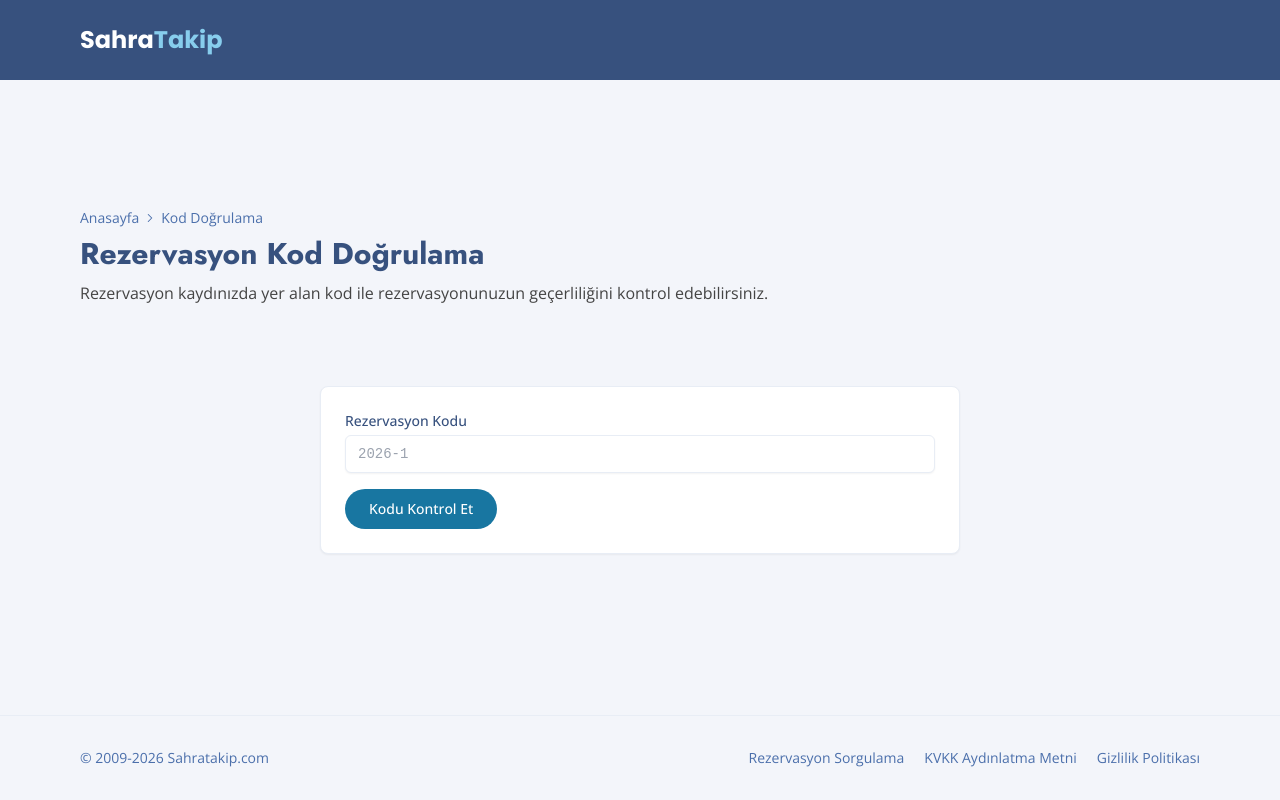
Test: Kod Doğrulama › bulunmayan kod için hata mesajı gösterir
This screenshot has width=1280, height=800.
Type "SA-2000-0000" into the field labelled "Rezervasyon Kodu" at (640, 454), box [345,435,935,473]
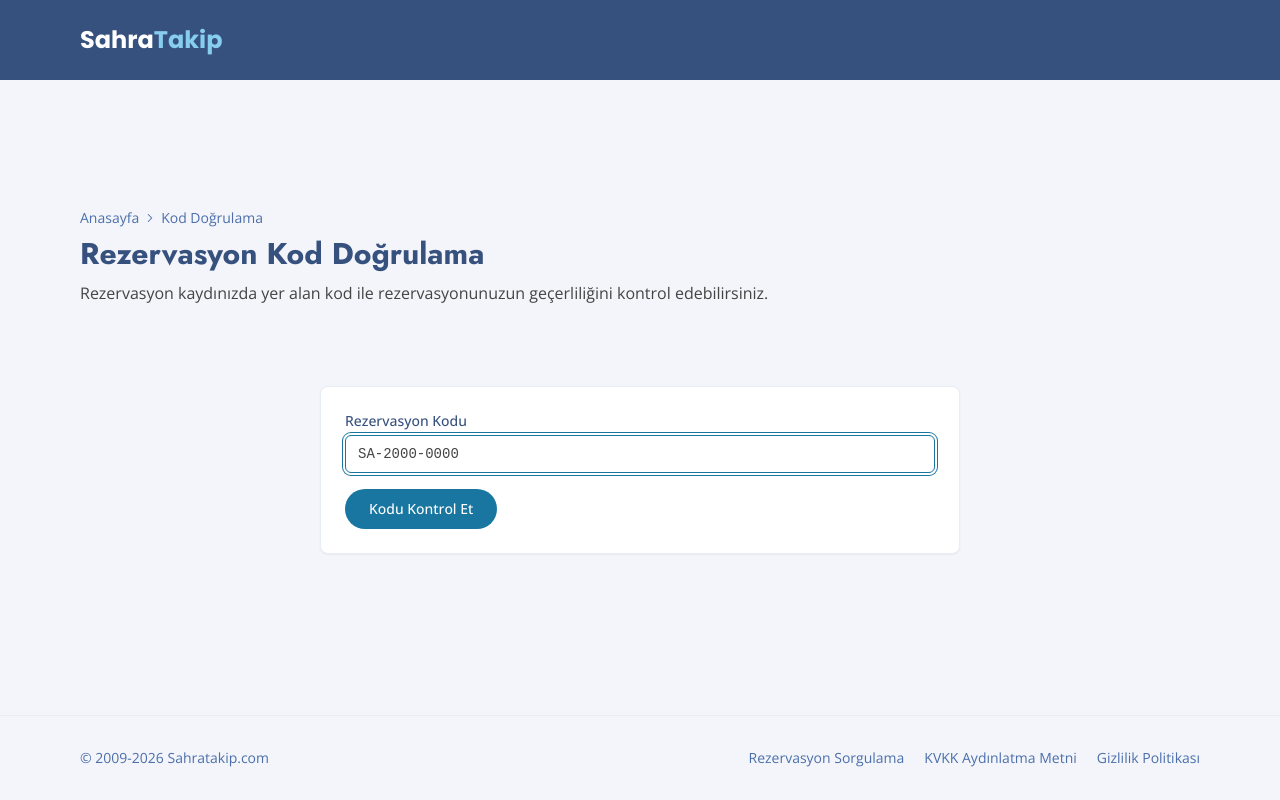
Click the button "Kodu Kontrol Et" at (421, 509), box [345,489,497,529]
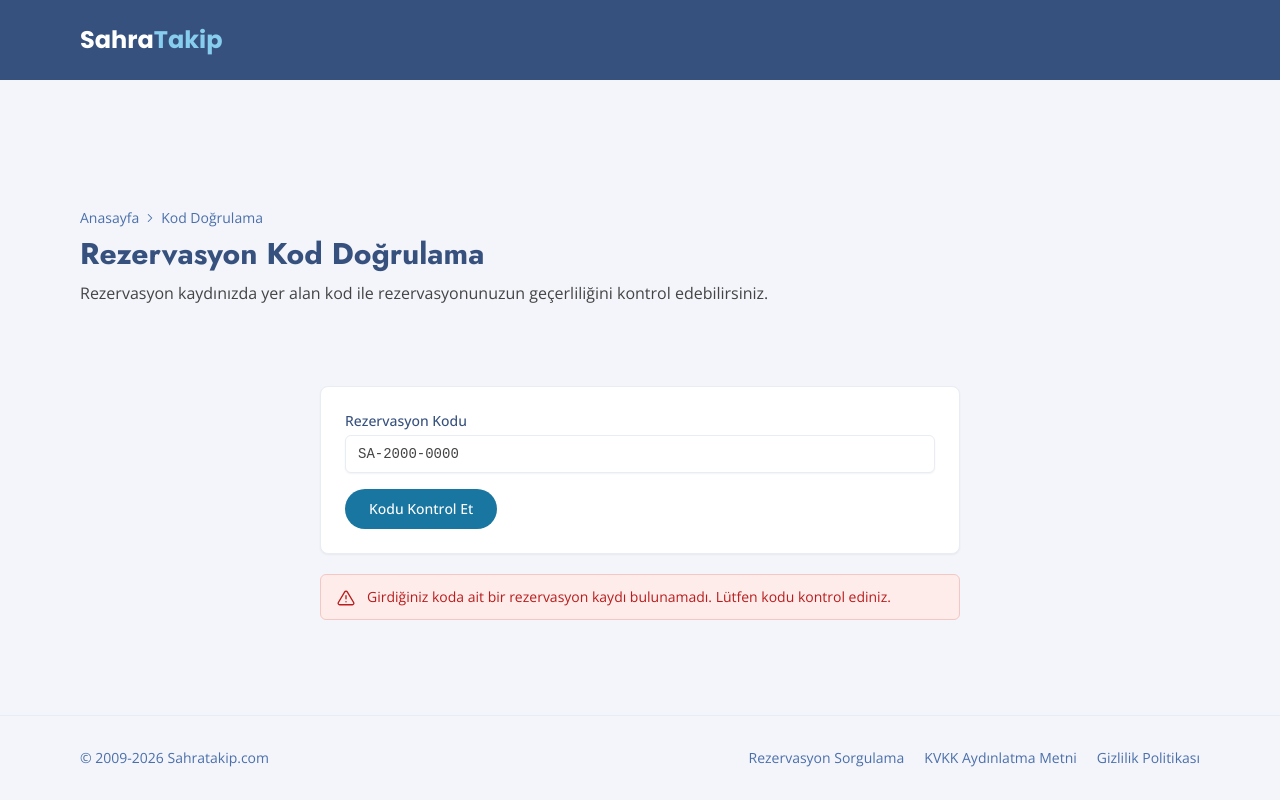
expect the text "bir rezervasyon kaydı bulunamadı" is shown: met, box [367,587,891,606]
